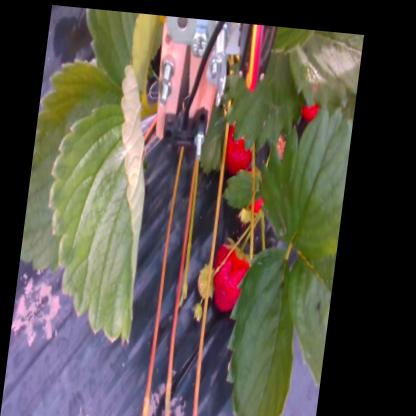ripe: (214, 232, 262, 312), (225, 113, 263, 175), (299, 84, 329, 121)
unripe: (201, 256, 224, 298)
